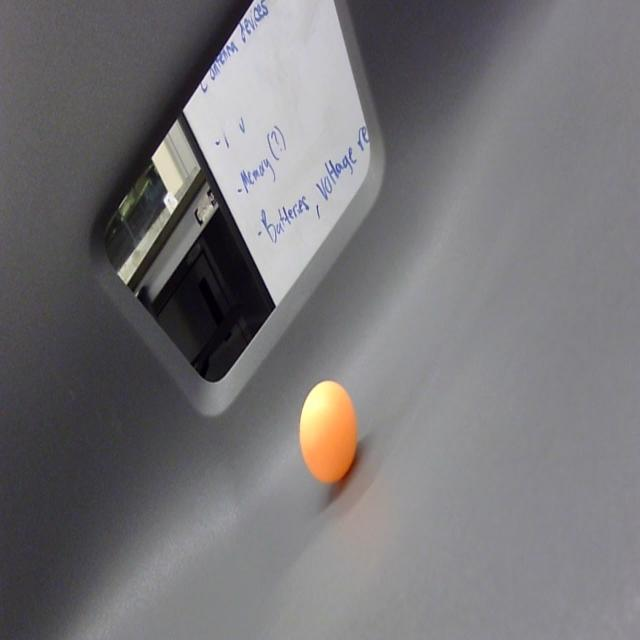ball: (298, 375, 360, 490)
